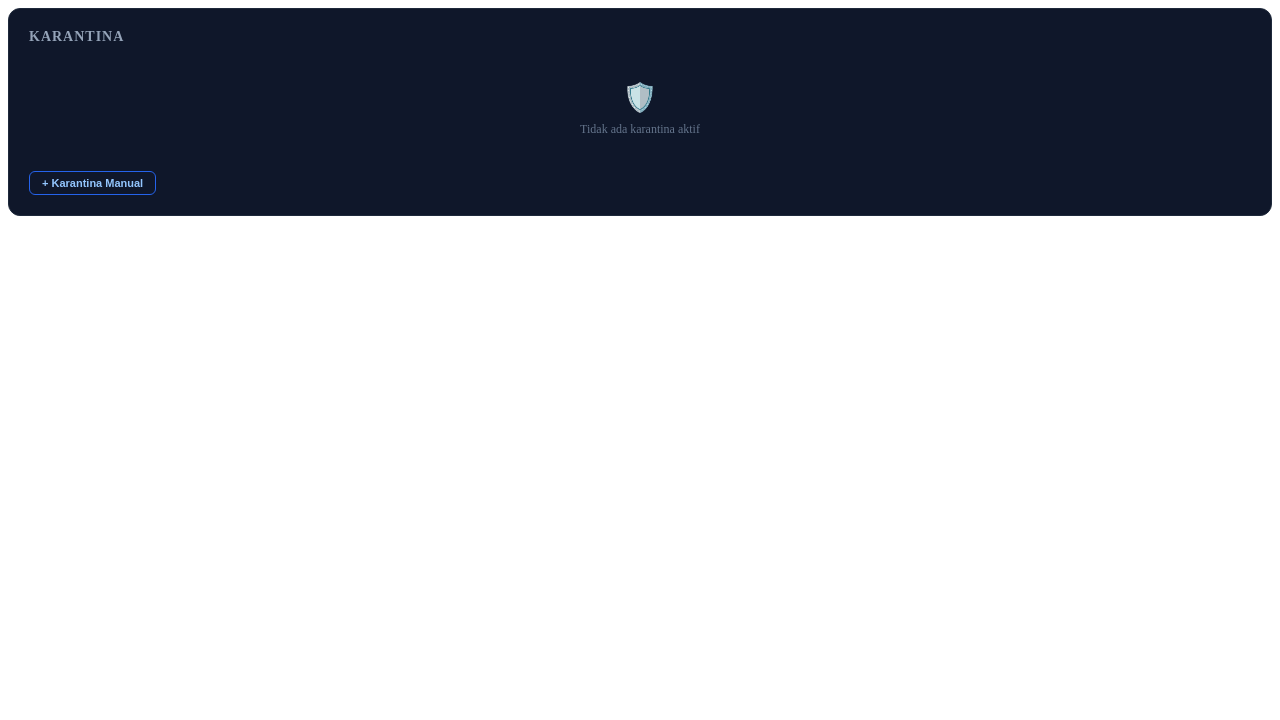
it: QuarantineTable › shows validation error when identity is empty on submit
Click the button with test id "toggle-manual-form": (93, 183) [29, 171, 156, 195]
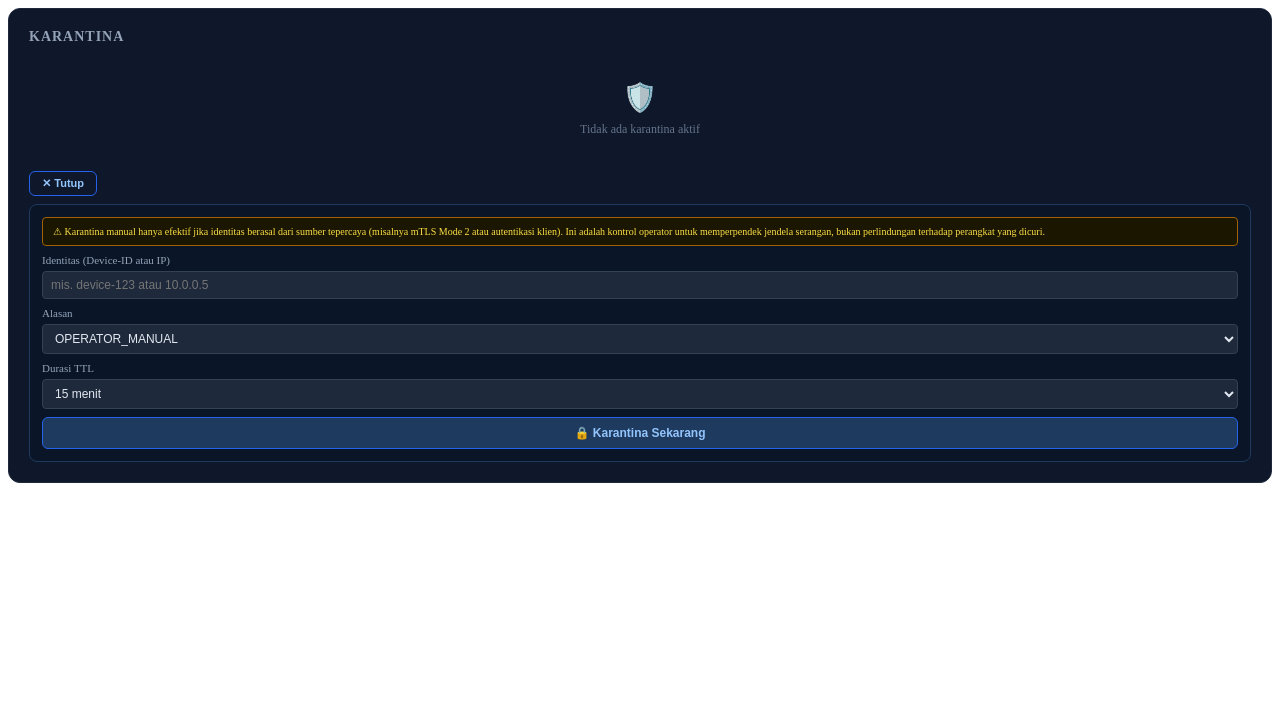
// Submit without filling identity
Click the button with test id "submit-quarantine": (640, 433) [42, 417, 1238, 449]
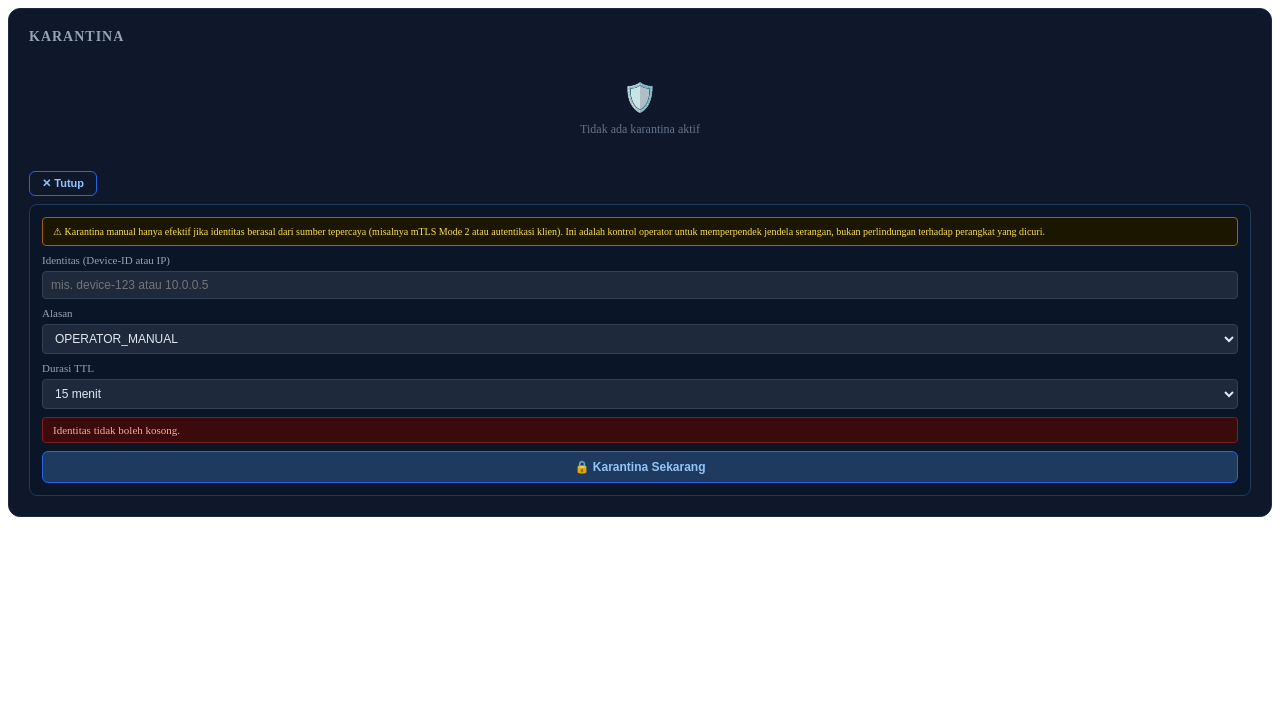
Now the text "Identitas tidak boleh kosong." is shown, box [42, 417, 1238, 443]
Now the text with test id "form-error" shows "Identitas tidak boleh kosong", box [53, 424, 180, 436]
